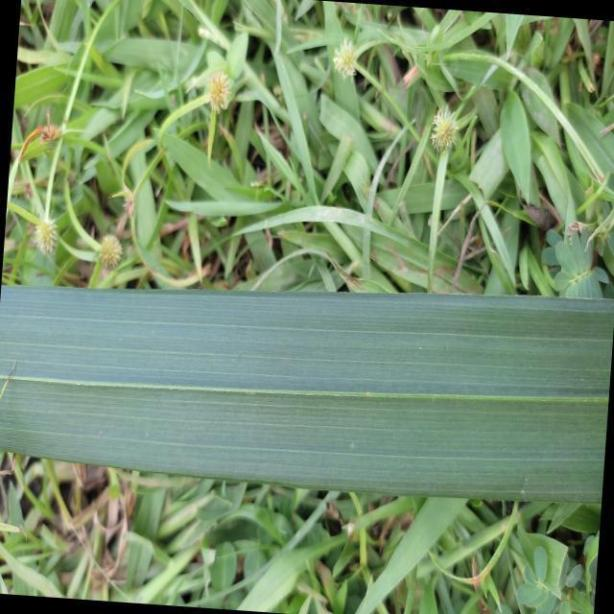Healthy: (0, 273, 614, 507)
